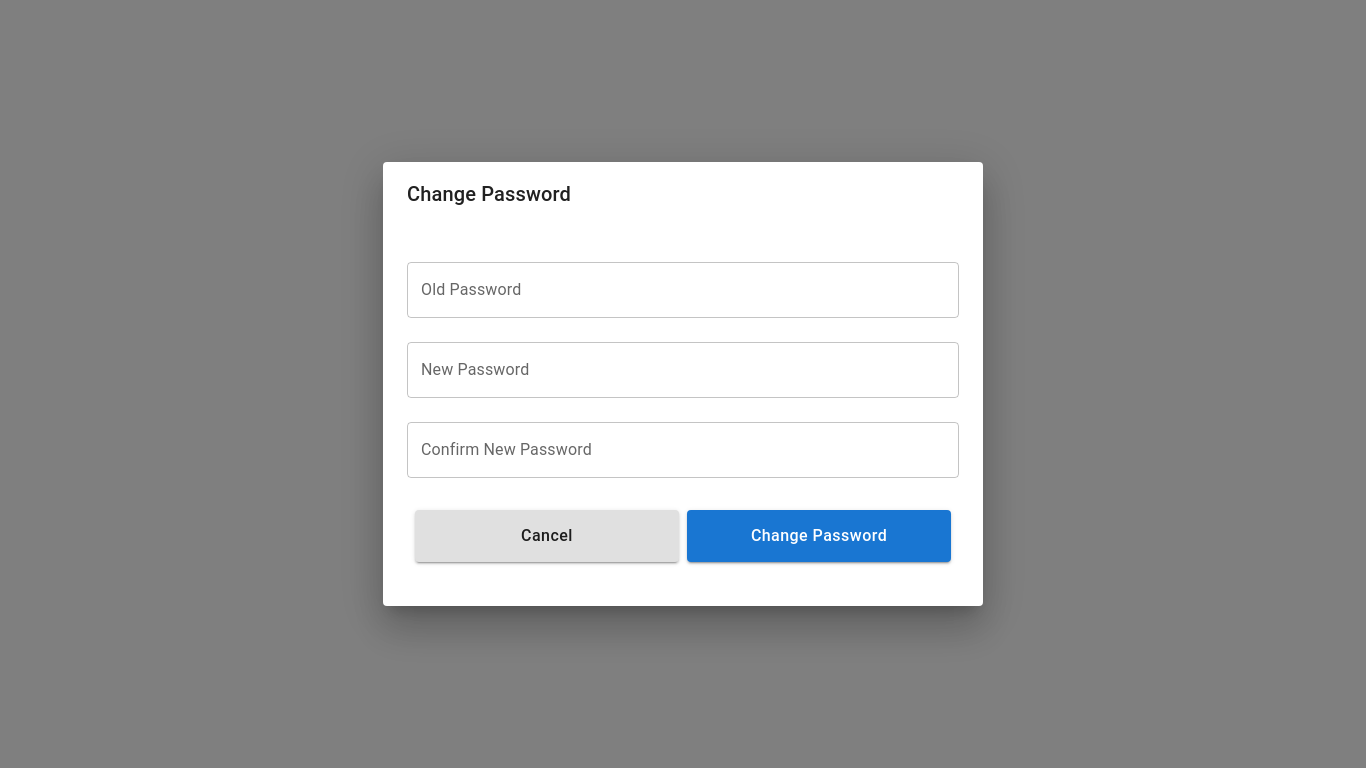
Test: ChangePasswordModal › shows success message and closes modal on successful password change
This screenshot has width=1366, height=768.
Note: Submit the form
Click the button "Change Password". click: (819,536)
box: [687,510,951,562]
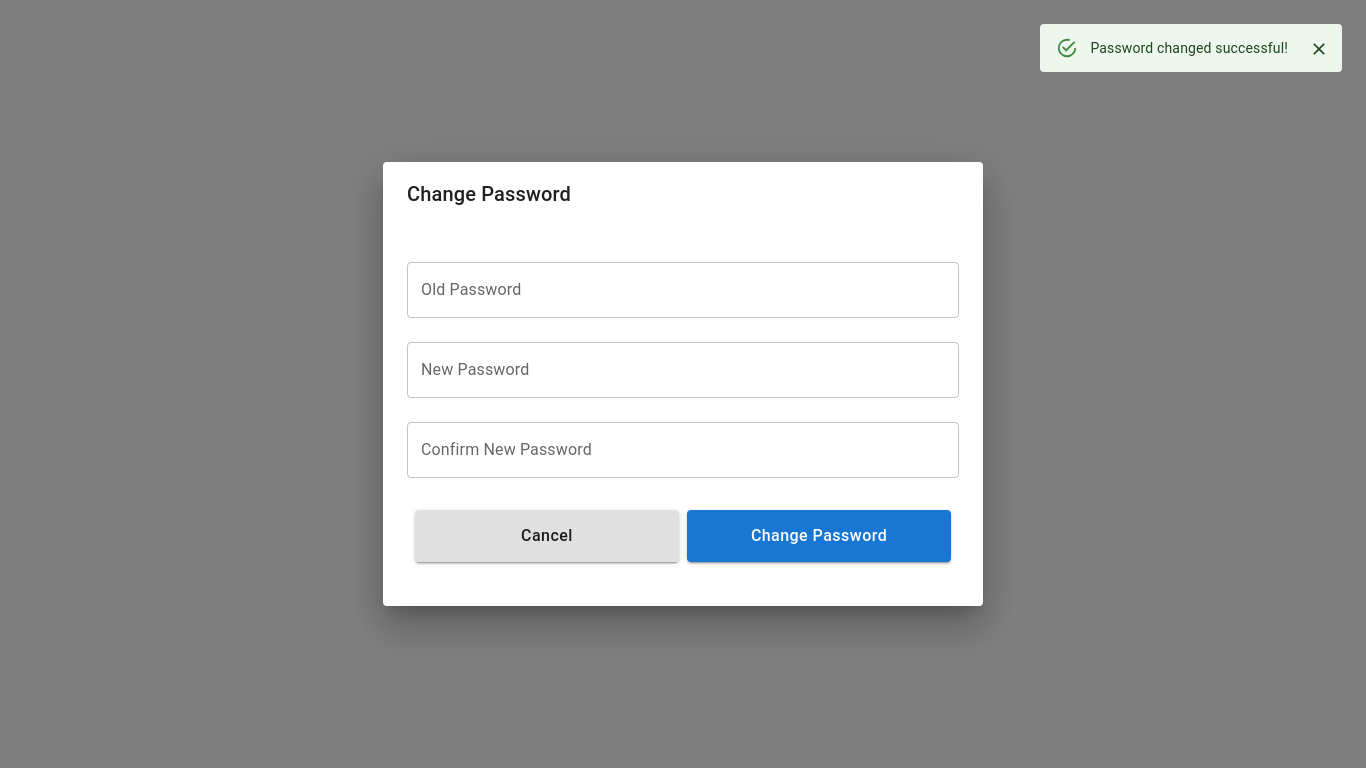
Expected: the text "Password changed successful!" is shown, [1090,40,1288,56]
